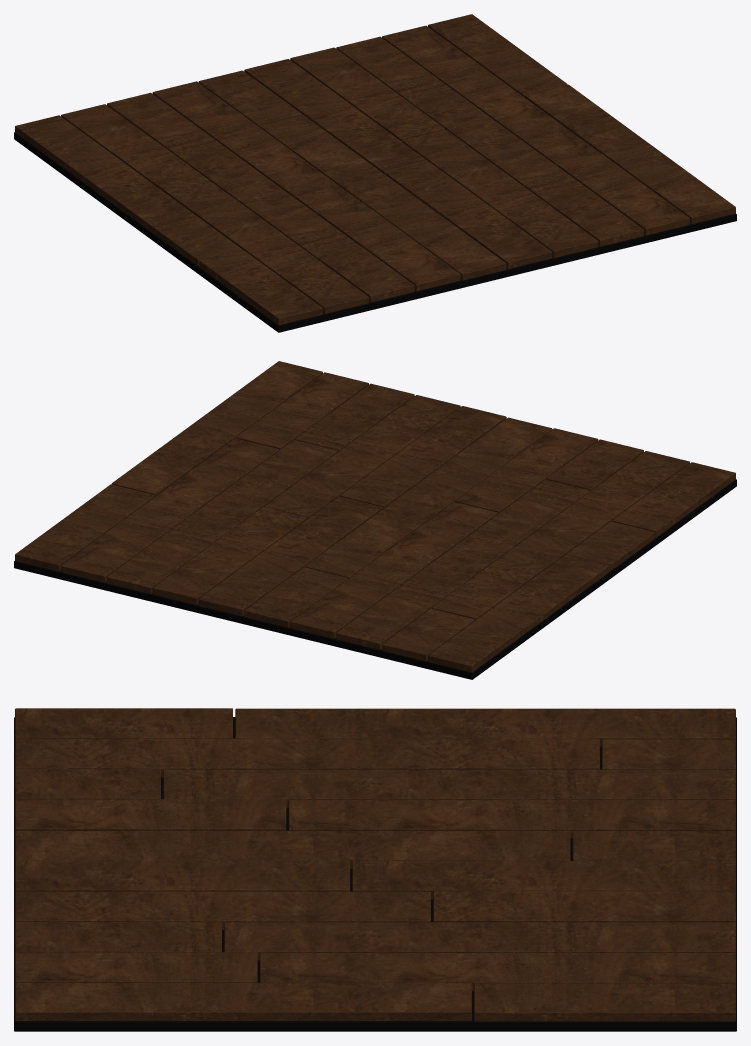
The model's file is Floor_Wood.gltf.
3 renders of one model, top to bottom at view 1: azimuth 30°, elevation 25°; view 2: azimuth 150°, elevation 25°; view 3: azimuth 270°, elevation 25°, orthographic. The views are drawn at different scales.
Parts seen in each view (by area): view 1: Floor_Wood_Body; view 2: Floor_Wood_Body; view 3: Floor_Wood_Body.
Part boxes in pixels (x1=…): Floor_Wood_Body: x1=14, y1=14, x2=736, y2=332; Floor_Wood_Body: x1=14, y1=361, x2=736, y2=679; Floor_Wood_Body: x1=14, y1=708, x2=736, y2=1031.
Size of what is drawn, in the model's own units: 2 by 0.06 by 2.
2 materials, 1 textured.
